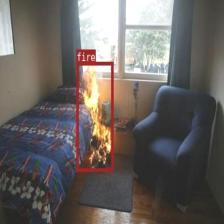fire: (76, 61, 113, 171)
